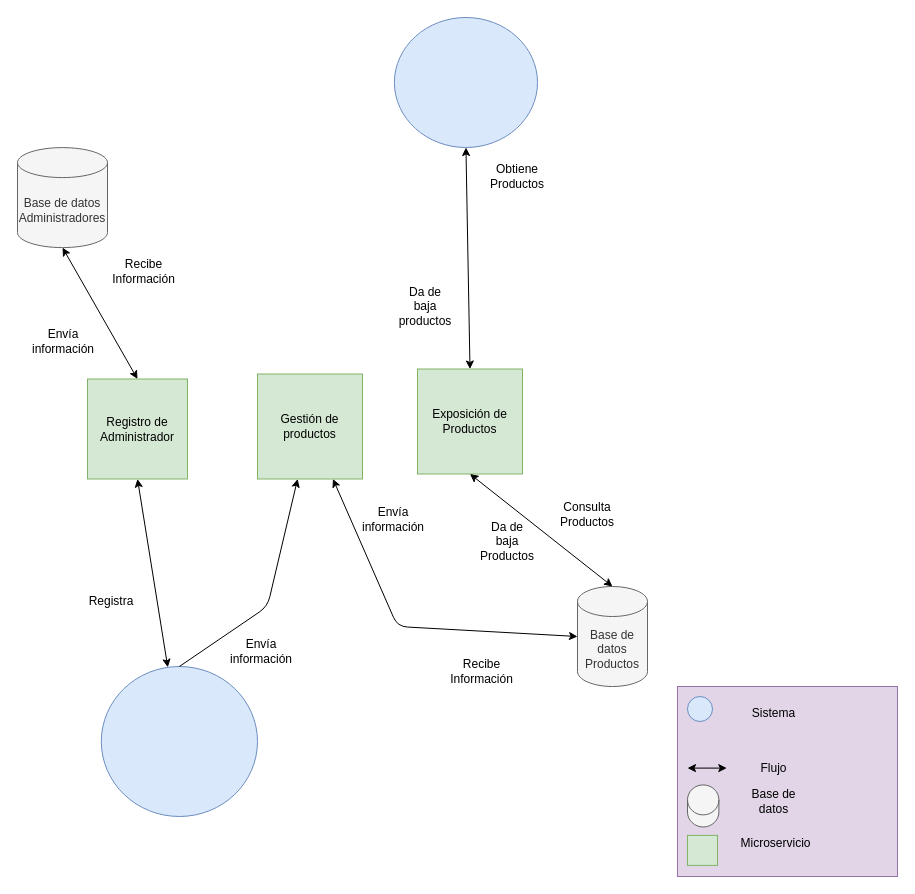
Image size: 915x894. Some labels were removed from this diagram. The centre of each missing label's shape, as x and y in pixels:
Sistema de Gestión de Productos: the point at 179,741
Sistema web "Venta de Productos Uacemita's Candy": the point at 465,82
